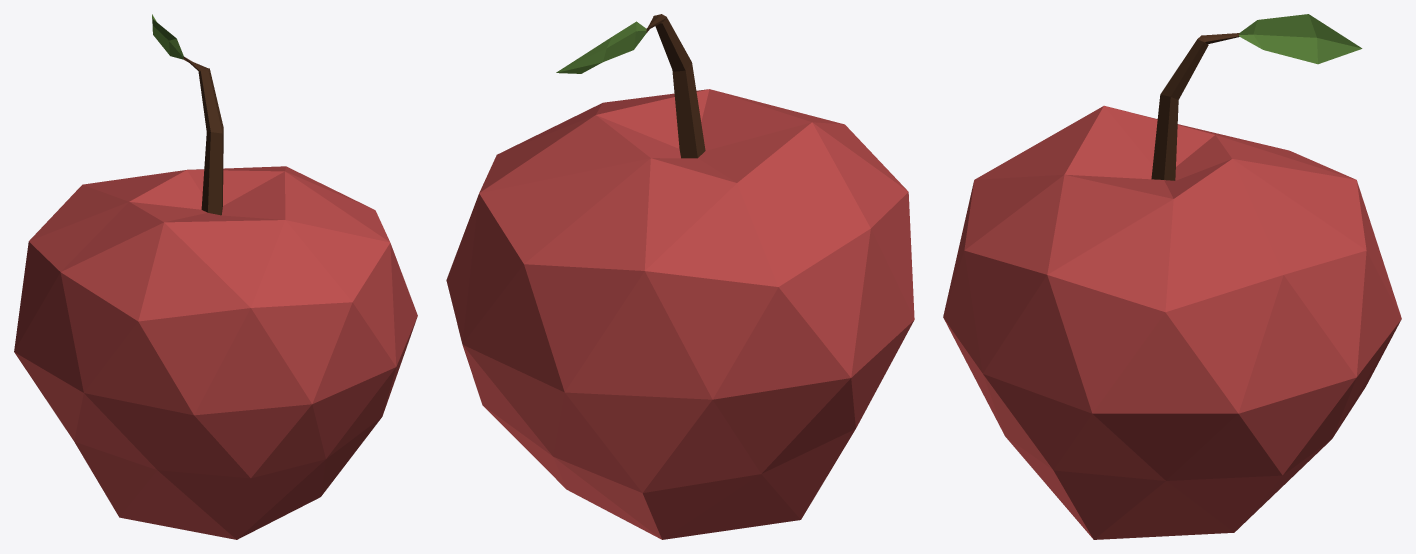
The model's file is Apple.fbx.
3 renders of one model, left to right at view 1: azimuth 30°, elevation 25°; view 2: azimuth 150°, elevation 25°; view 3: azimuth 270°, elevation 25°, orthographic. The views are drawn at different scales.
Visible parts, largest first — view 1: Apple_LOD0; view 2: Apple_LOD0; view 3: Apple_LOD0.
Boxes of the visible parts, left/top/right/bottom form: Apple_LOD0: left=14, top=14, right=417, bottom=539; Apple_LOD0: left=446, top=14, right=914, bottom=539; Apple_LOD0: left=943, top=14, right=1401, bottom=539.
Bounding box in the file's own units: 31.39 × 40.4 × 32.33.
